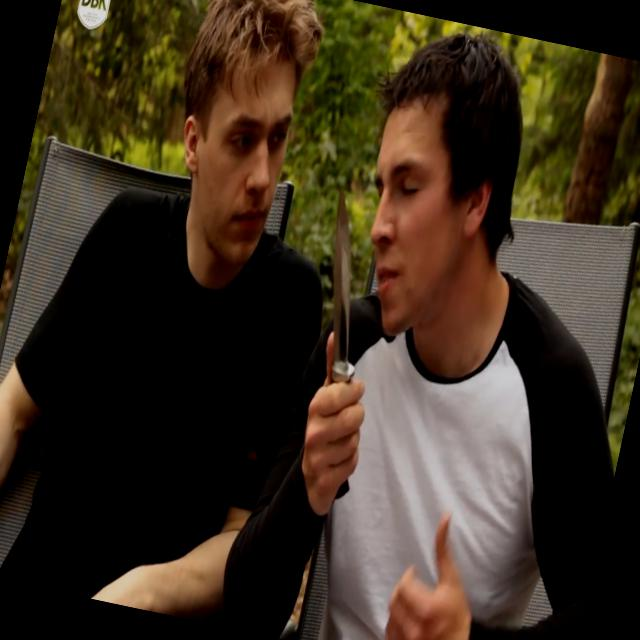knife: (274, 166, 421, 489)
